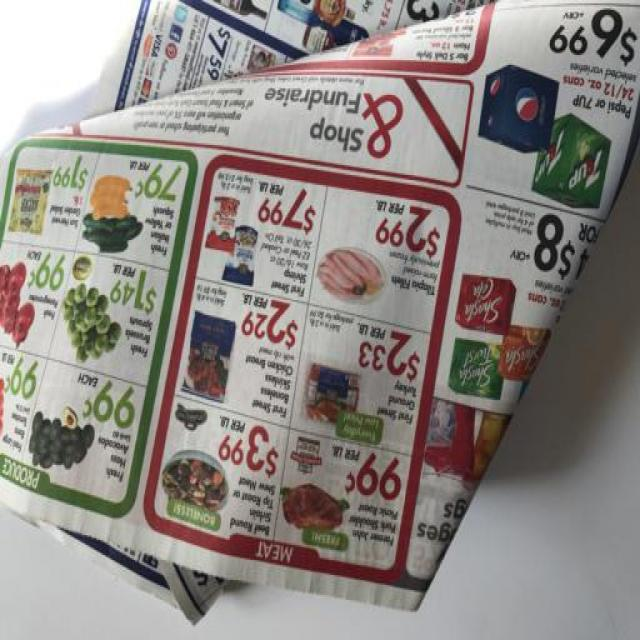paper: (2, 2, 639, 640)
